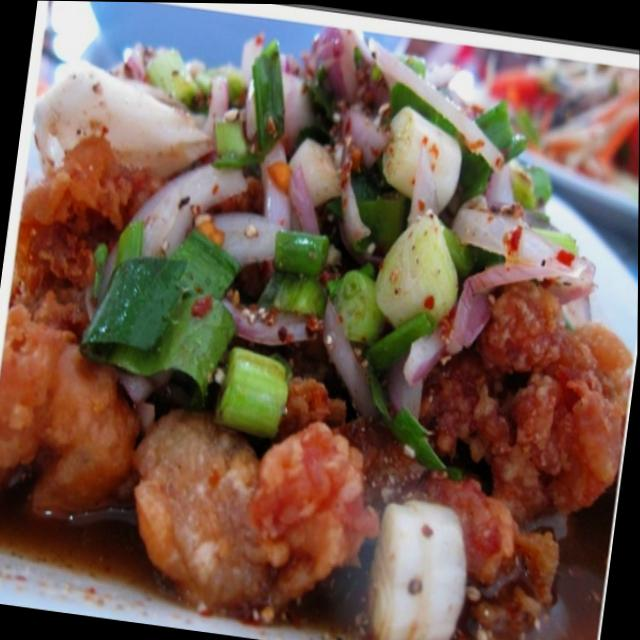鸡肉料理 含炸鸡: (0, 4, 640, 640)
